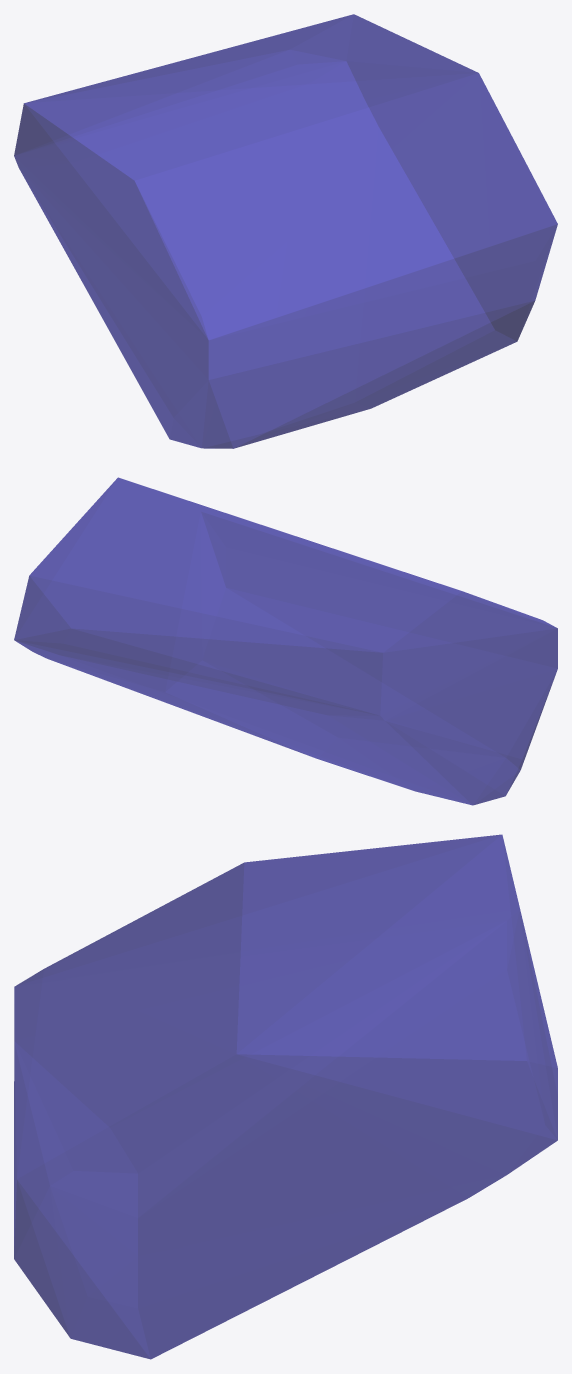
3 renders of one model, top to bottom at view 1: azimuth 30°, elevation 25°; view 2: azimuth 150°, elevation 25°; view 3: azimuth 270°, elevation 25°, orthographic. The views are drawn at different scales.
Visible parts, largest first — view 1: Shape_IndexedFaceSet.013_Shape_IndexedFaceSet.18104; view 2: Shape_IndexedFaceSet.013_Shape_IndexedFaceSet.18104; view 3: Shape_IndexedFaceSet.013_Shape_IndexedFaceSet.18104.
Boxes of the visible parts, x1=… form: Shape_IndexedFaceSet.013_Shape_IndexedFaceSet.18104: x1=14, y1=14, x2=557, y2=448; Shape_IndexedFaceSet.013_Shape_IndexedFaceSet.18104: x1=14, y1=477, x2=557, y2=805; Shape_IndexedFaceSet.013_Shape_IndexedFaceSet.18104: x1=14, y1=834, x2=557, y2=1359.
Bounding box in the file's own units: 0.2368 × 0.1707 × 0.2256.
